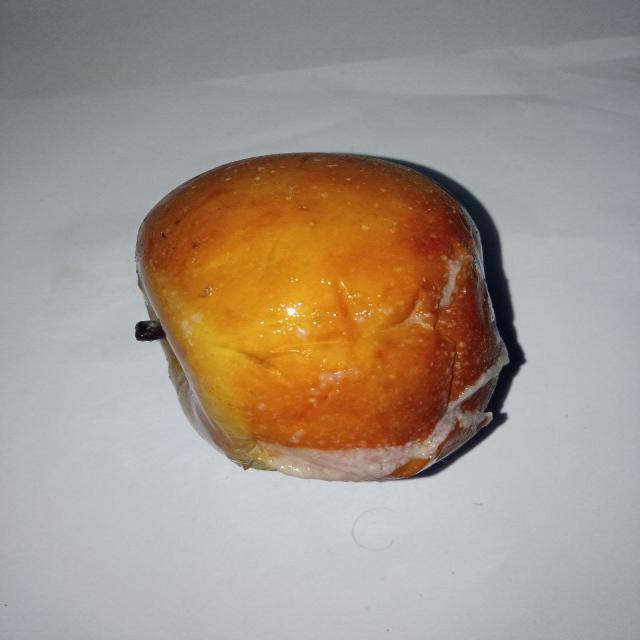rotten_apple: (128, 153, 506, 477)
